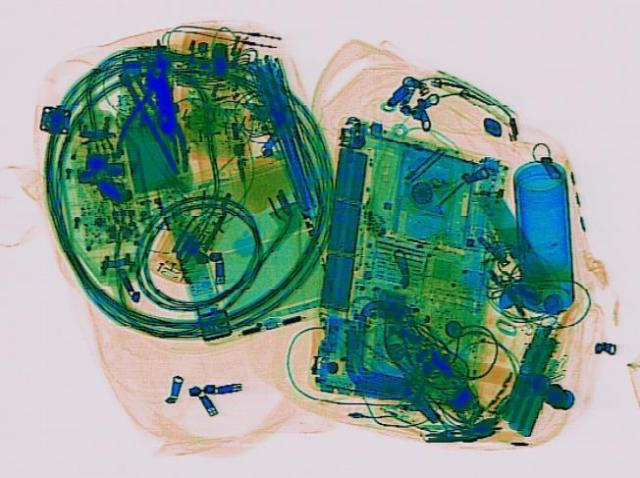Pliers: (114, 52, 192, 171)
